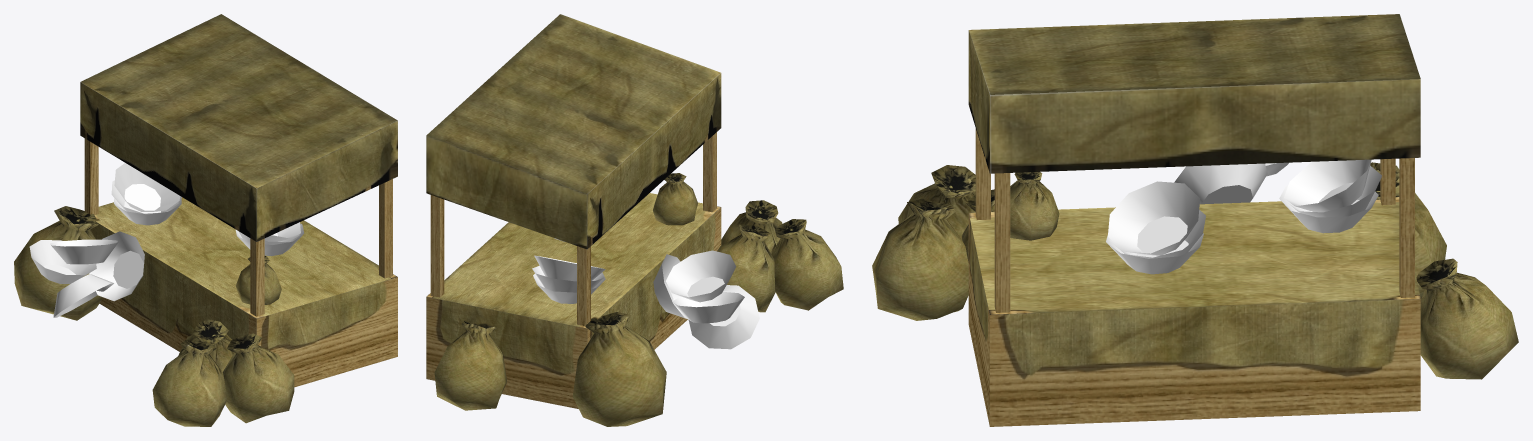
The model's file is store08.fbx.
3 views of the same model, side by side, from view 1: azimuth 30°, elevation 25°; view 2: azimuth 150°, elevation 25°; view 3: azimuth 270°, elevation 25° (orthographic). The views are drawn at different scales.
Parts seen in each view (by area): view 1: stand_7, bag_81, bag_83, bag_82, bowl_63, bowl_67, bowl_62, bowl_61, bowl_64, bag_84, bag_86, bowl_69 (+1 smaller); view 2: stand_7, bag_82, bag_85, bag_81, bag_84, bowl_61, bowl_64, bag_86, bowl_62, bag_83, bowl_63, bowl_67 (+2 smaller); view 3: stand_7, bag_83, bag_85, bowl_68, bowl_67, bowl_63, bag_86, bag_81, bag_82, bowl_69, bowl_65, bowl_70 (+1 smaller).
Part boxes in pixels (bbox=[...]): stand_7: bbox=[80, 14, 397, 387]; bag_81: bbox=[152, 340, 226, 426]; bag_83: bbox=[223, 333, 294, 423]; bag_82: bbox=[14, 206, 102, 320]; bowl_63: bbox=[89, 231, 144, 301]; bowl_67: bbox=[114, 163, 179, 211]; bowl_62: bbox=[29, 240, 96, 283]; bowl_61: bbox=[50, 239, 118, 264]; bowl_64: bbox=[53, 274, 113, 317]; bag_84: bbox=[178, 319, 233, 371]; bag_86: bbox=[235, 256, 281, 304]; bowl_69: bbox=[114, 196, 181, 225]; stand_7: bbox=[426, 14, 721, 408]; bag_82: bbox=[572, 312, 666, 426]; bag_85: bbox=[434, 321, 506, 410]; bag_81: bbox=[771, 219, 843, 310]; bag_84: bbox=[717, 224, 775, 312]; bowl_61: bbox=[666, 250, 736, 302]; bowl_64: bbox=[688, 285, 759, 349]; bag_86: bbox=[653, 173, 697, 225]; bowl_62: bbox=[672, 292, 744, 323]; bag_83: bbox=[721, 200, 782, 253]; bowl_63: bbox=[653, 254, 688, 319]; bowl_67: bbox=[534, 255, 605, 281]; stand_7: bbox=[968, 14, 1420, 426]; bag_83: bbox=[872, 198, 968, 320]; bag_85: bbox=[1416, 258, 1518, 379]; bowl_68: bbox=[1108, 181, 1200, 255]; bowl_67: bbox=[1284, 159, 1371, 212]; bowl_63: bbox=[1174, 163, 1267, 204]; bag_86: bbox=[1010, 172, 1059, 240]; bag_81: bbox=[898, 165, 975, 239]; bag_82: bbox=[1370, 162, 1446, 299]; bowl_69: bbox=[1279, 185, 1378, 233]; bowl_65: bbox=[1106, 233, 1203, 274]; bowl_70: bbox=[1286, 165, 1381, 217].
Bounding box in the file's own units: 66.66 × 58.25 × 98.69.
